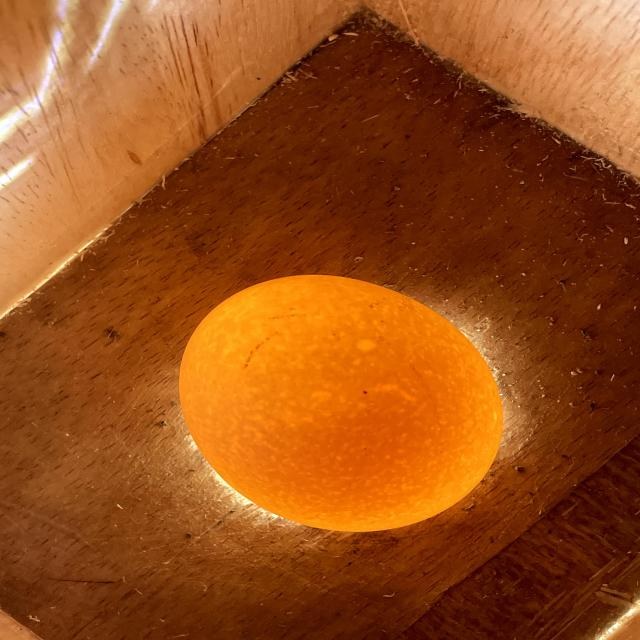infertile: (180, 275, 503, 531)
